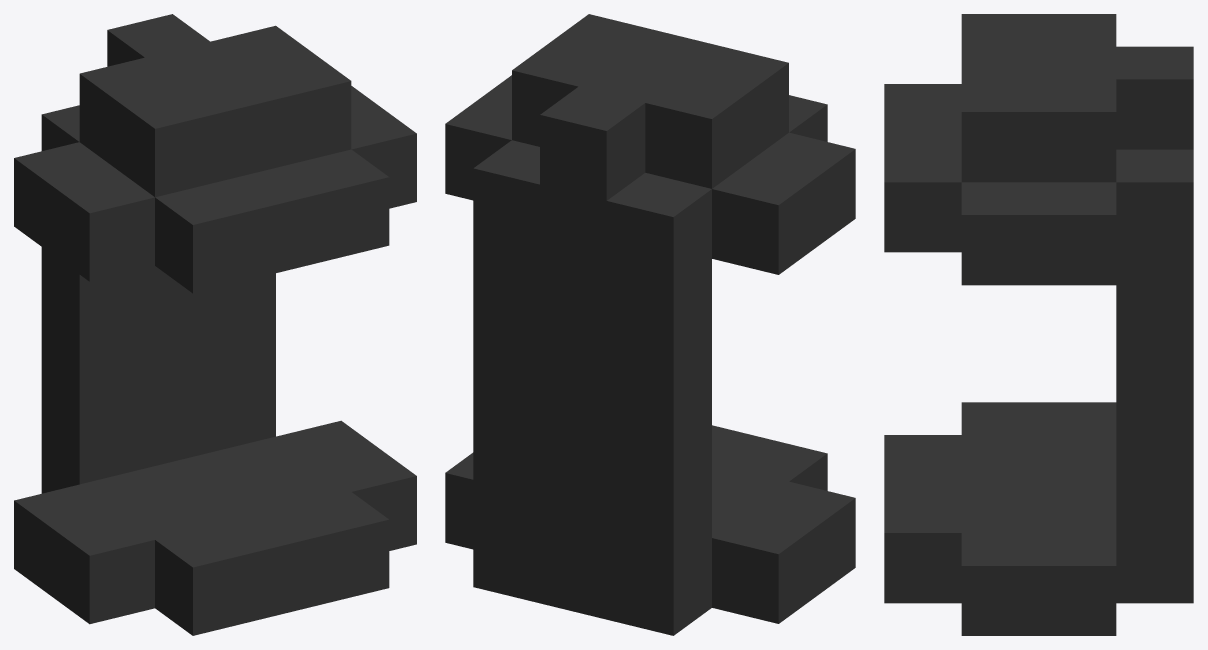
Rendered from Wall Lantern.obj.
3 views of the same model, side by side, from view 1: azimuth 30°, elevation 25°; view 2: azimuth 150°, elevation 25°; view 3: azimuth 270°, elevation 25° (orthographic). The views are drawn at different scales.
Bounding box in the file's own units: 0.5 × 0.7 × 0.4.
1 material, 1 textured.
